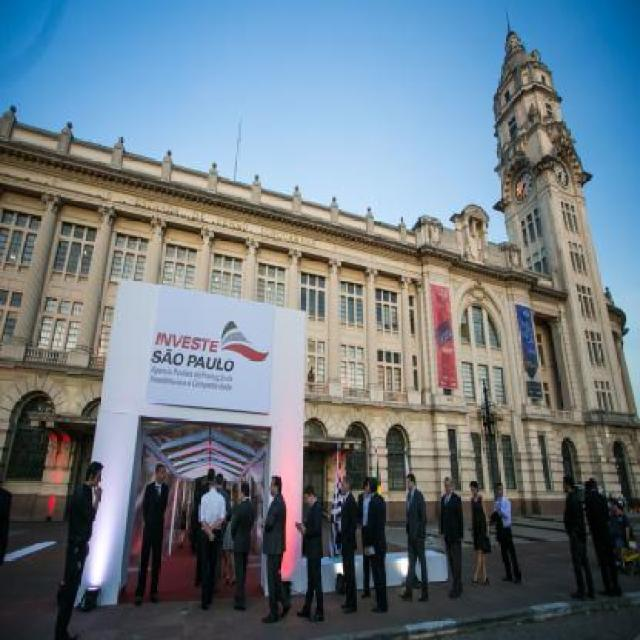Person: (56, 460, 101, 638), (135, 460, 171, 605), (258, 476, 291, 622), (293, 484, 325, 622), (584, 475, 618, 600), (398, 475, 430, 602), (564, 474, 594, 604), (228, 477, 255, 608), (365, 476, 389, 616), (336, 470, 358, 612), (200, 476, 223, 606), (492, 486, 523, 582), (438, 478, 462, 597), (470, 482, 492, 586), (358, 477, 376, 597), (612, 495, 636, 560), (214, 470, 228, 572), (223, 490, 234, 588), (179, 497, 186, 541)
